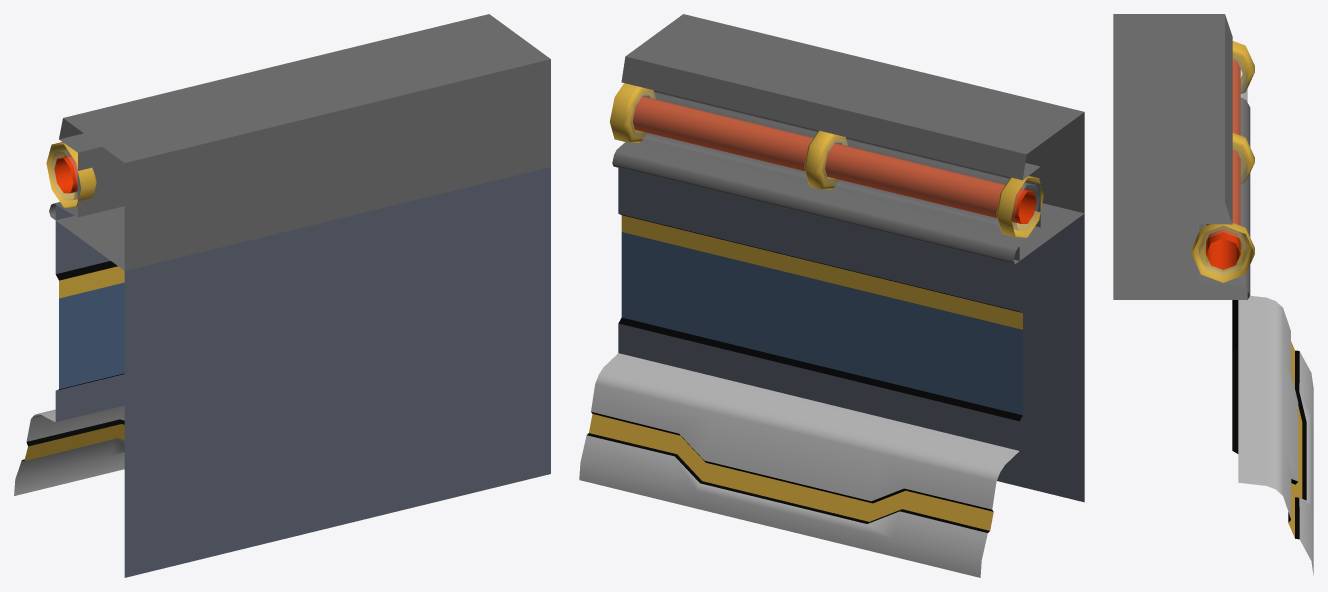
File: Wall_withoutdetails2.fbx
The picture shows the model from 3 angles, left to right: view 1: azimuth 30°, elevation 25°; view 2: azimuth 150°, elevation 25°; view 3: azimuth 270°, elevation 25°; orthographic projection. The views are drawn at different scales.
Visible parts, largest first — view 1: Wall_withoutdetails2; view 2: Wall_withoutdetails2; view 3: Wall_withoutdetails2.
Part boxes in pixels (left/top/right/bottom): Wall_withoutdetails2: left=14, top=14, right=550, bottom=577; Wall_withoutdetails2: left=579, top=14, right=1084, bottom=577; Wall_withoutdetails2: left=1113, top=14, right=1313, bottom=575.
Bounding box in the file's own units: 733 × 682 × 330.
